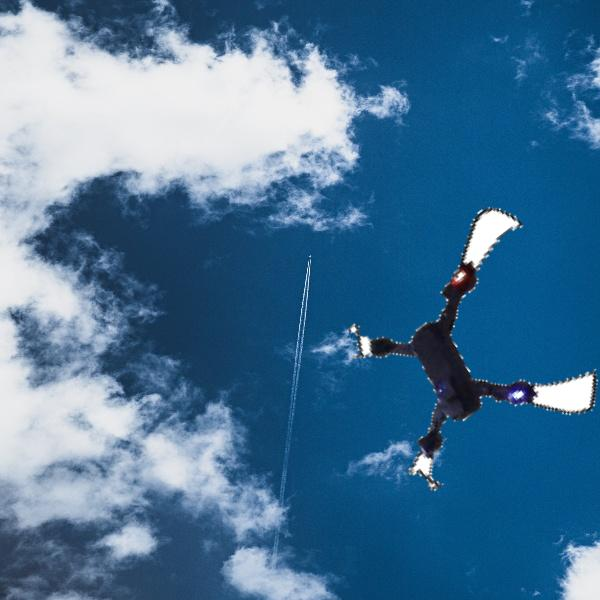drone: (346, 229, 597, 480)
